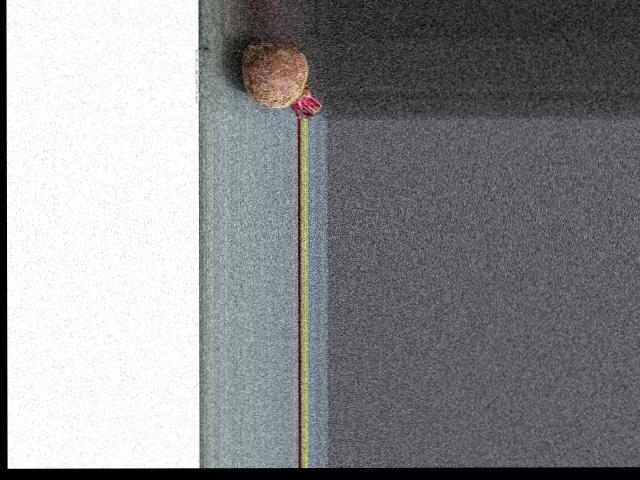beet: (241, 40, 320, 120)
